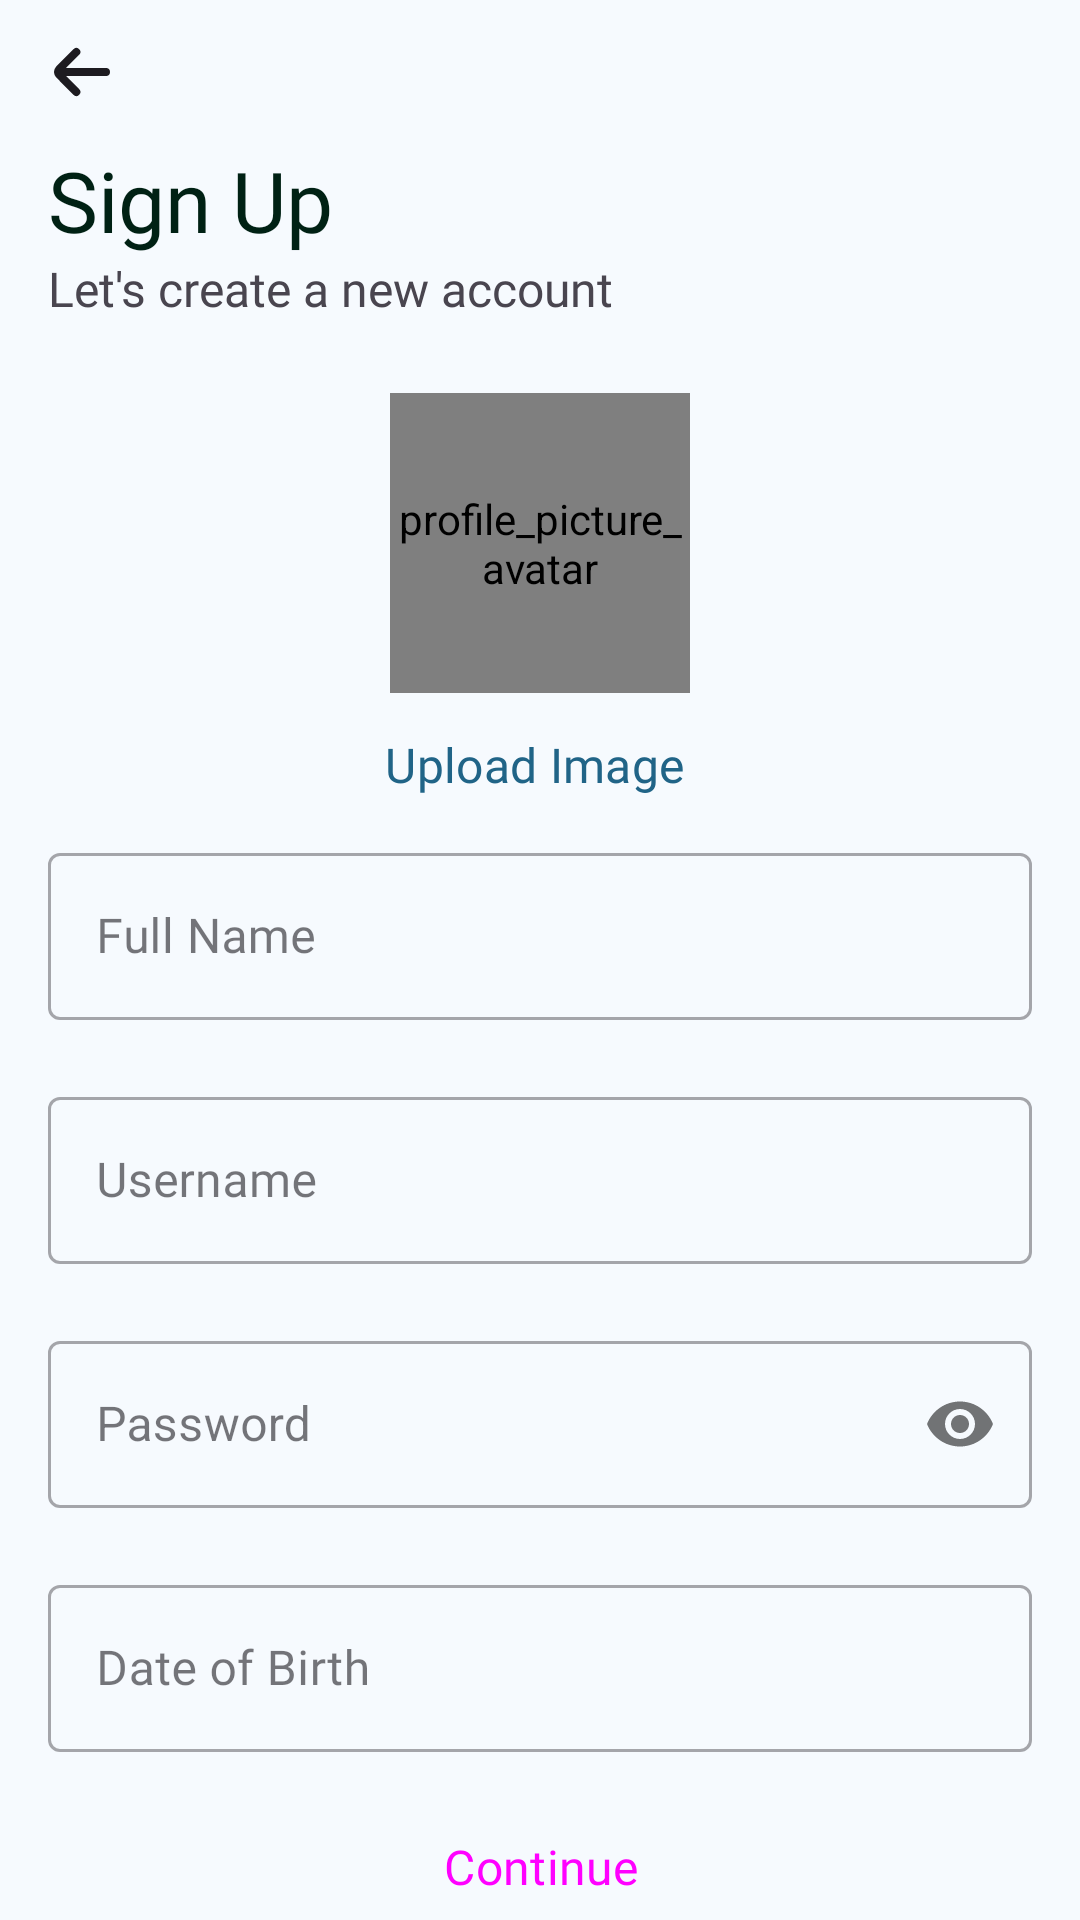

Where to tap for icons on this 1080 × 1920 app screen, as point (x, y):
back button: point (82, 72)
